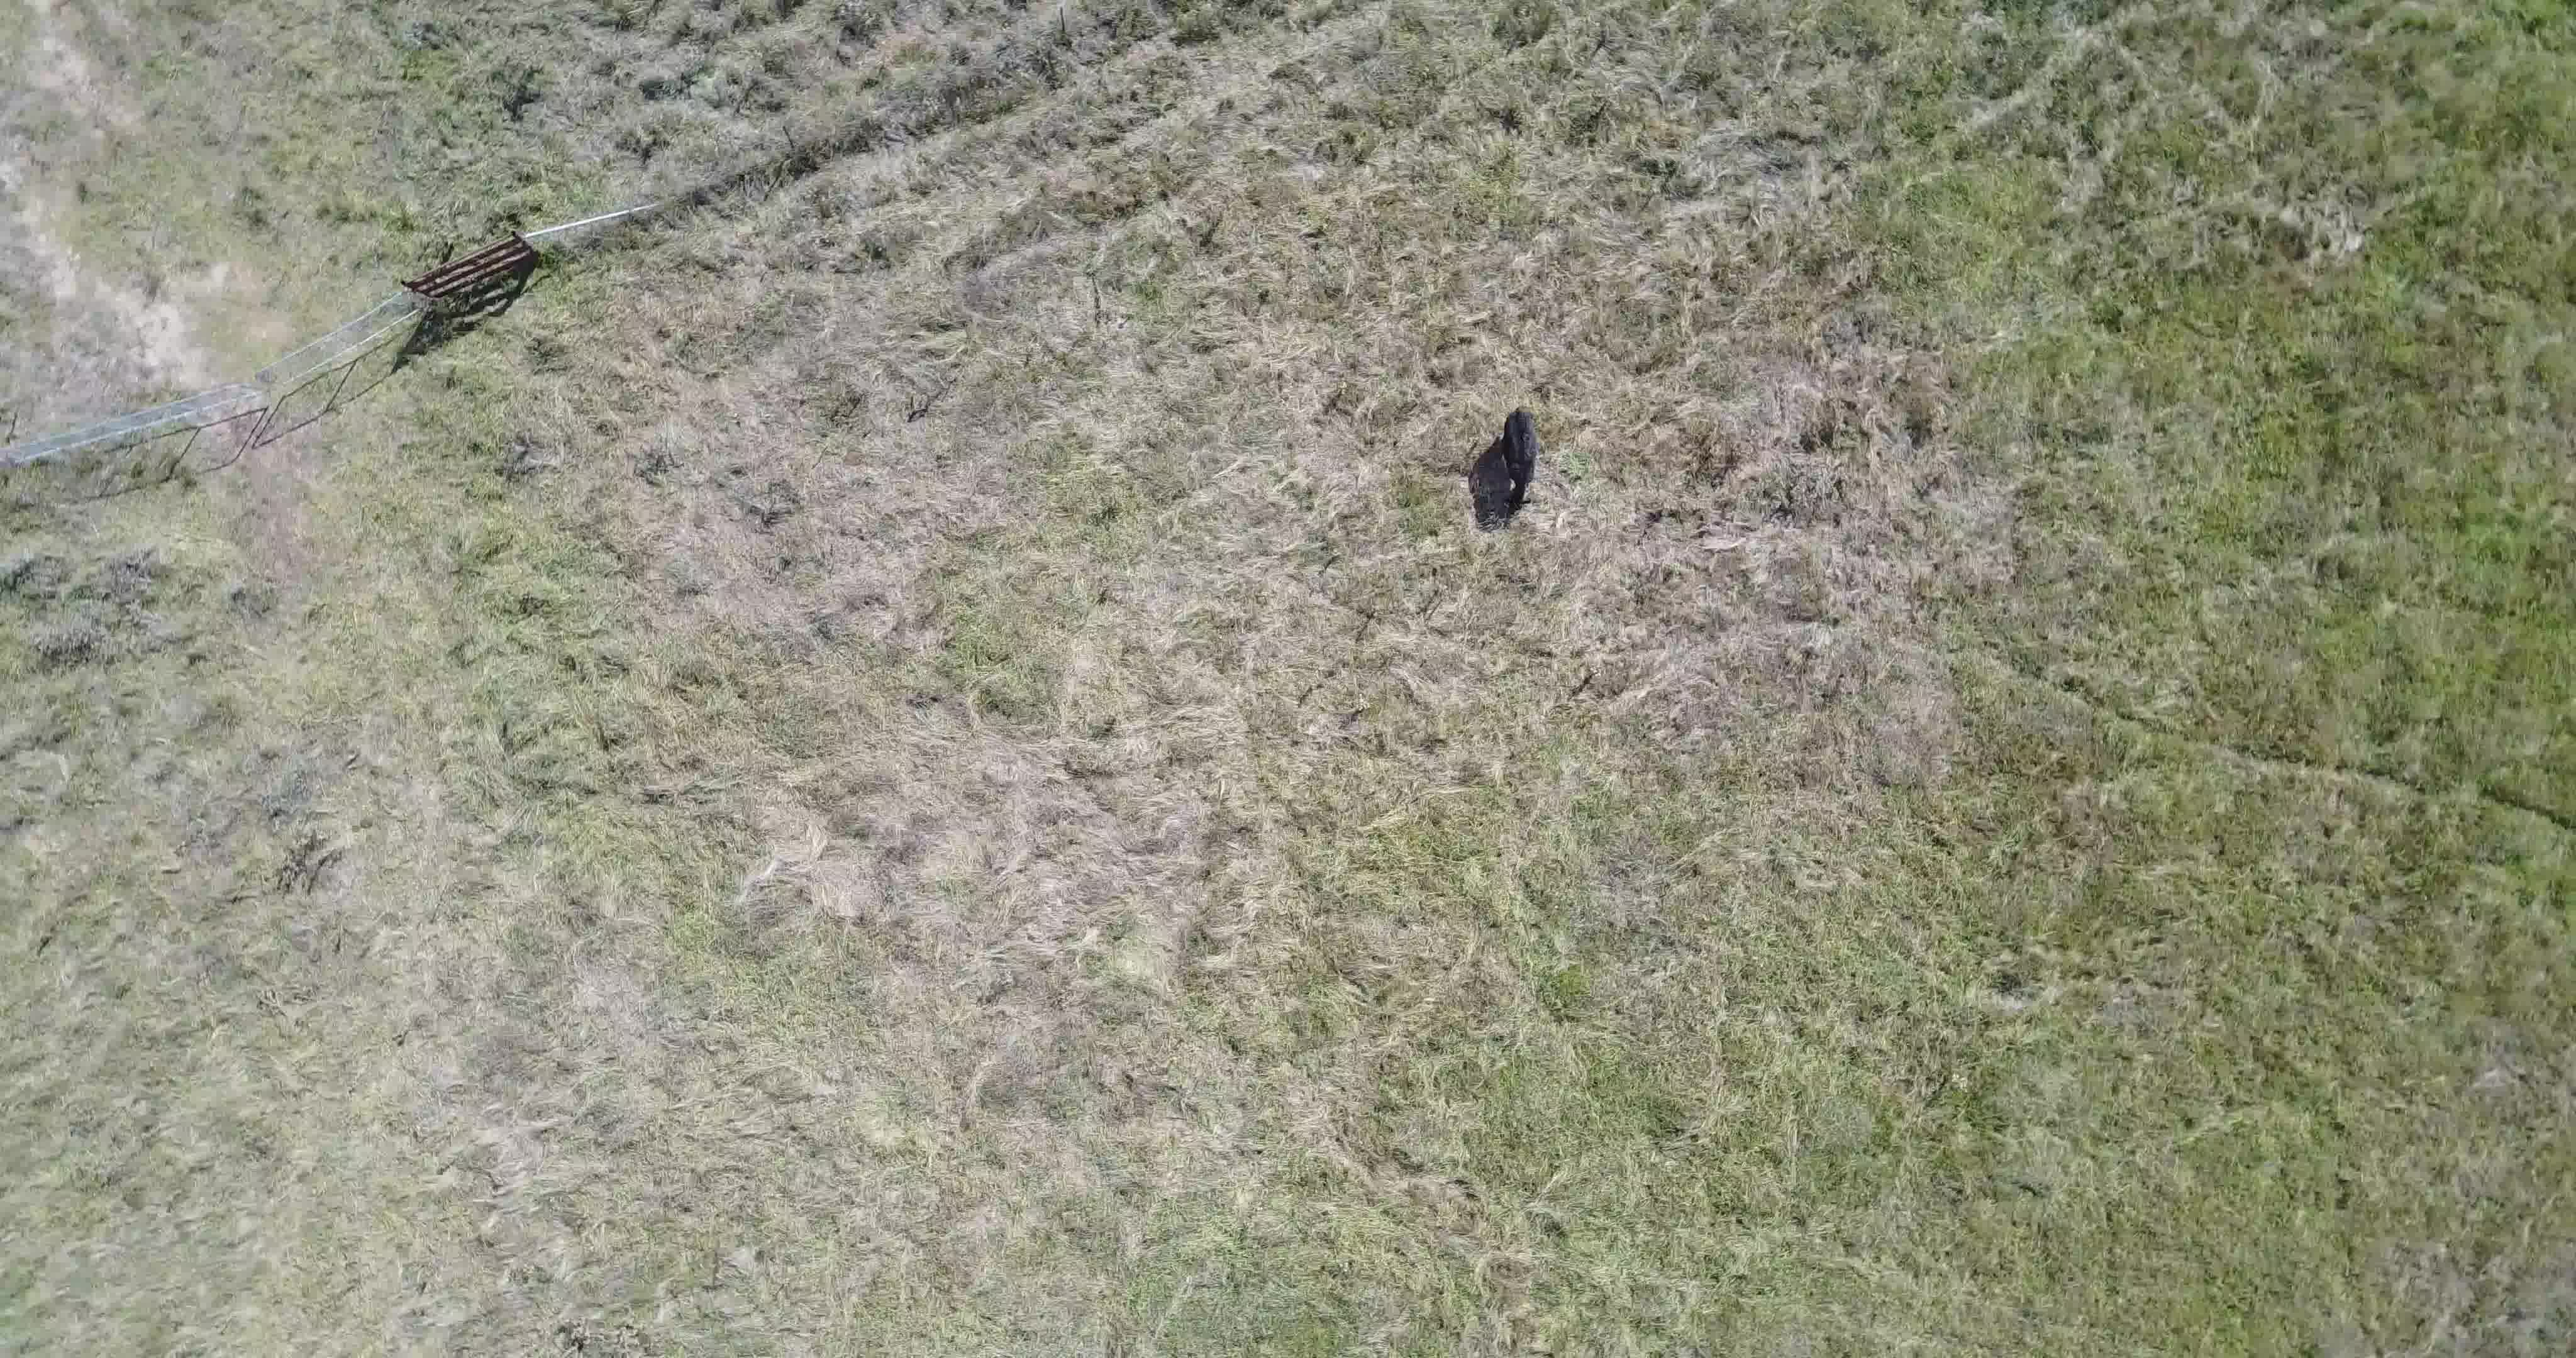cattle: (1496, 406, 1545, 516)
